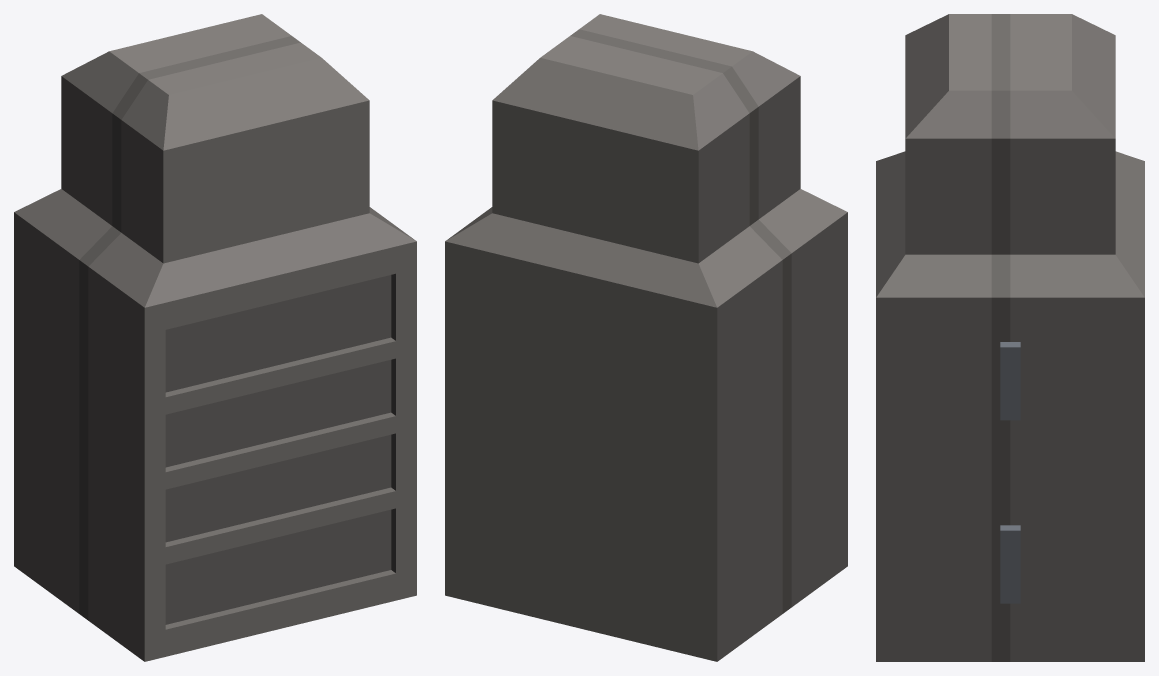
Rendered from SD_Trap_IronMaiden_01.fbx.
The picture shows the model from 3 angles, left to right: view 1: azimuth 30°, elevation 25°; view 2: azimuth 150°, elevation 25°; view 3: azimuth 270°, elevation 25°; orthographic projection. The views are drawn at different scales.
Parts seen in each view (by area): view 1: IronMaiden_Lid, SD_Trap_IronMaiden_01; view 2: SD_Trap_IronMaiden_01, IronMaiden_Lid; view 3: SD_Trap_IronMaiden_01, IronMaiden_Lid.
Boxes of the visible parts, box(x1,y1,x2,y2) form: IronMaiden_Lid: box(79, 36, 416, 661); SD_Trap_IronMaiden_01: box(14, 14, 291, 613); SD_Trap_IronMaiden_01: box(445, 36, 782, 661); IronMaiden_Lid: box(570, 14, 847, 613); SD_Trap_IronMaiden_01: box(1000, 14, 1144, 661); IronMaiden_Lid: box(876, 14, 1010, 661).
Size of the model in its own units: 1.99 by 3.54 by 1.59.
